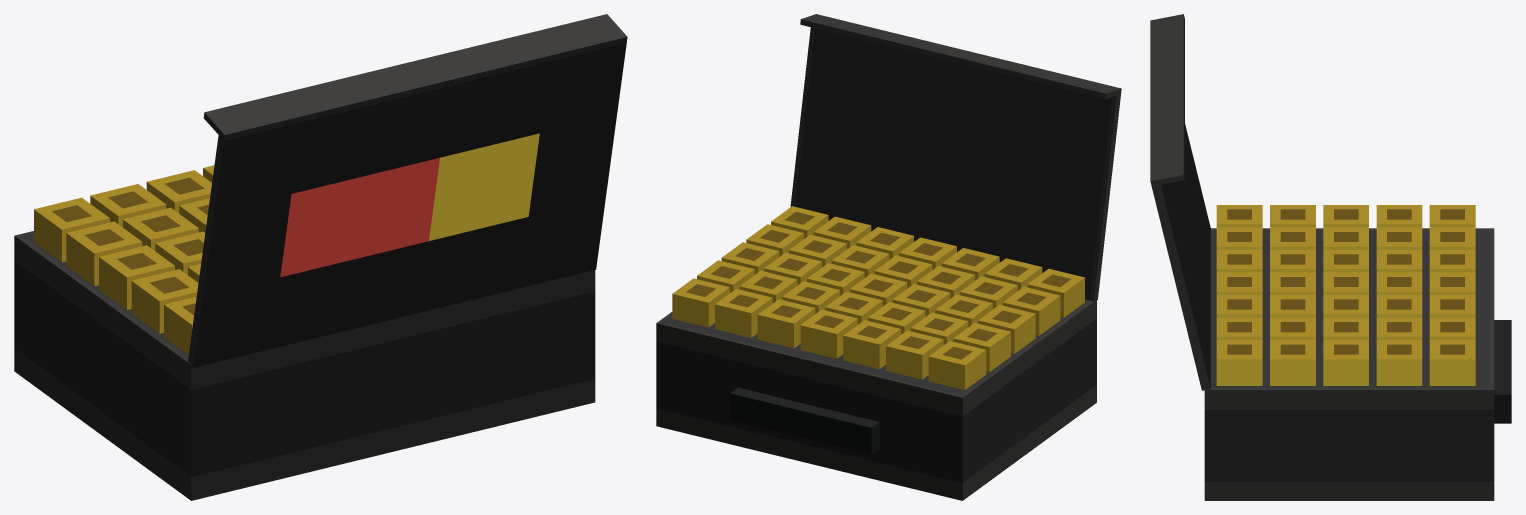
Rendered from AmmoBox_Shotgun.fbx.
The picture shows the model from 3 angles, left to right: view 1: azimuth 30°, elevation 25°; view 2: azimuth 150°, elevation 25°; view 3: azimuth 270°, elevation 25°; orthographic projection. The views are drawn at different scales.
Parts seen in each view (by area): view 1: AmmoBox_Shotgun; view 2: AmmoBox_Shotgun; view 3: AmmoBox_Shotgun.
Part boxes in pixels (box(x1,y1,x2,y2)): AmmoBox_Shotgun: box(14, 14, 627, 500); AmmoBox_Shotgun: box(656, 14, 1121, 500); AmmoBox_Shotgun: box(1150, 14, 1511, 500).
Bounding box in the file's own units: 71.65 × 67.45 × 67.77.
